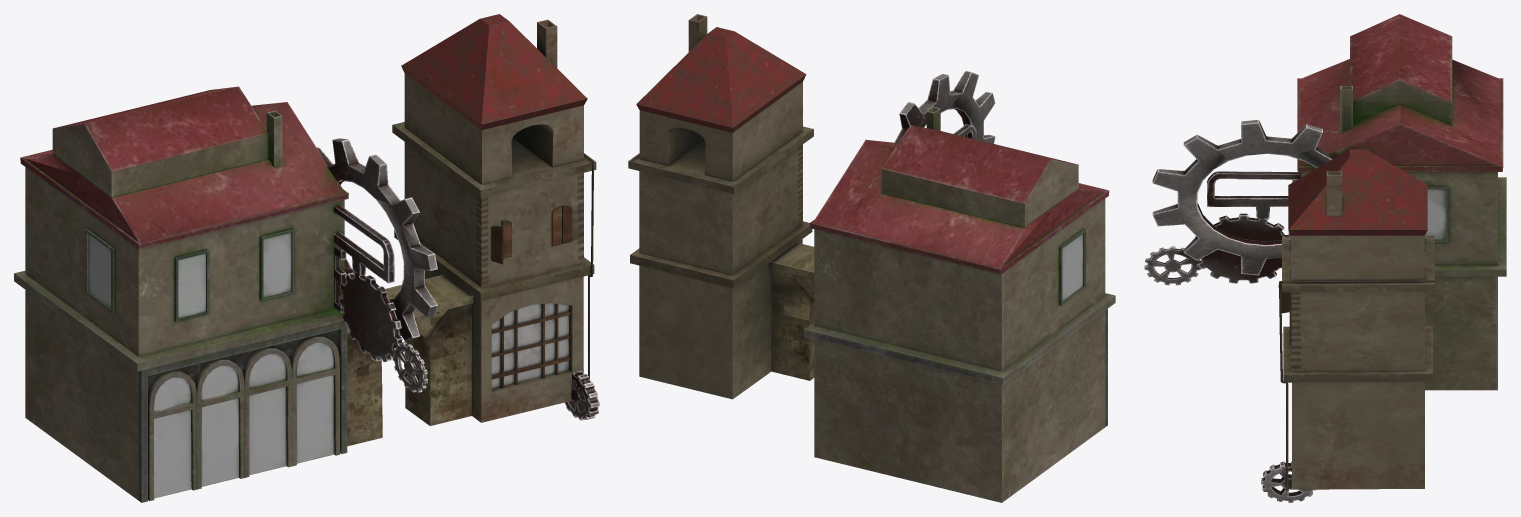
The model's file is shopfront-lo.glb.
3 views of the same model, side by side, from view 1: azimuth 30°, elevation 25°; view 2: azimuth 150°, elevation 25°; view 3: azimuth 270°, elevation 25° (orthographic). The views are drawn at different scales.
Visible parts, largest first — view 1: shopfront-lo, shopfront-lo.002, shopfront-lo roof, shopfront-lo.002 roof, shopfront-lo.001, shopfront-lo.001 roof; view 2: shopfront-lo, shopfront-lo.002, shopfront-lo roof, shopfront-lo.002 roof, shopfront-lo.001 roof, shopfront-lo.001; view 3: shopfront-lo.002, shopfront-lo, shopfront-lo.001, shopfront-lo roof, shopfront-lo.002 roof, shopfront-lo.001 roof.
Part boxes in pixels (x1,y1,x2,y2): shopfront-lo: (14, 105, 348, 502); shopfront-lo.002: (347, 91, 596, 446); shopfront-lo roof: (52, 86, 316, 197); shopfront-lo.002 roof: (401, 14, 587, 147); shopfront-lo.001: (316, 146, 599, 420); shopfront-lo.001 roof: (332, 138, 419, 213); shopfront-lo: (804, 142, 1115, 502); shopfront-lo.002: (628, 98, 814, 399); shopfront-lo roof: (839, 106, 1078, 228); shopfront-lo.002 roof: (636, 14, 806, 148); shopfront-lo.001 roof: (899, 70, 978, 129); shopfront-lo.001: (630, 76, 995, 161); shopfront-lo.002: (1279, 235, 1434, 489); shopfront-lo: (1292, 59, 1506, 390); shopfront-lo.001: (1144, 147, 1436, 502); shopfront-lo roof: (1340, 14, 1452, 145); shopfront-lo.002 roof: (1288, 149, 1427, 250); shopfront-lo.001 roof: (1183, 119, 1322, 160).
Bounding box in the file's own units: 20 × 16 × 16.
3 materials, 3 textured.
